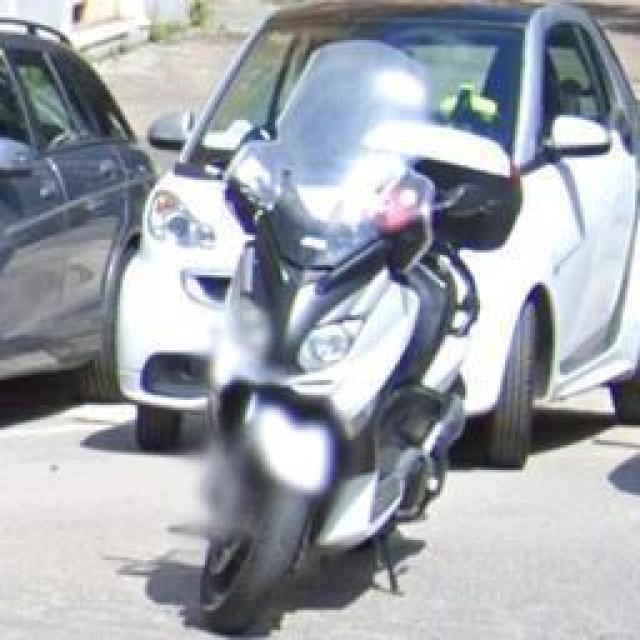car: (120, 0, 640, 448), (2, 10, 156, 432)
motorbike: (180, 30, 530, 633)
